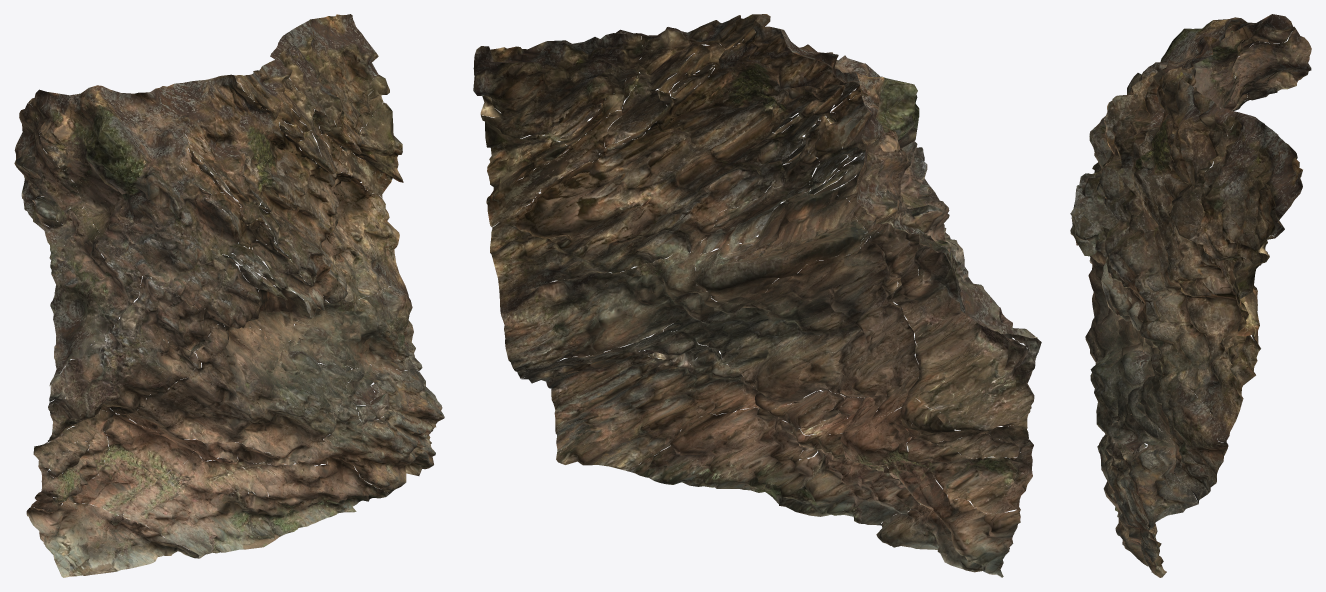
Rendered from mountainside.glb.
3 views of the same model, side by side, from view 1: azimuth 30°, elevation 25°; view 2: azimuth 150°, elevation 25°; view 3: azimuth 270°, elevation 25° (orthographic). The views are drawn at different scales.
Visible parts, largest first — view 1: mountainside; view 2: mountainside; view 3: mountainside.
Boxes of the visible parts, x1,y1,x2,y2 form: mountainside: (14,14,444,577); mountainside: (473,14,1041,577); mountainside: (1070,14,1311,577).
Size of the model in its own units: 10.21 by 10.52 by 5.25.
1 material, 1 textured.
